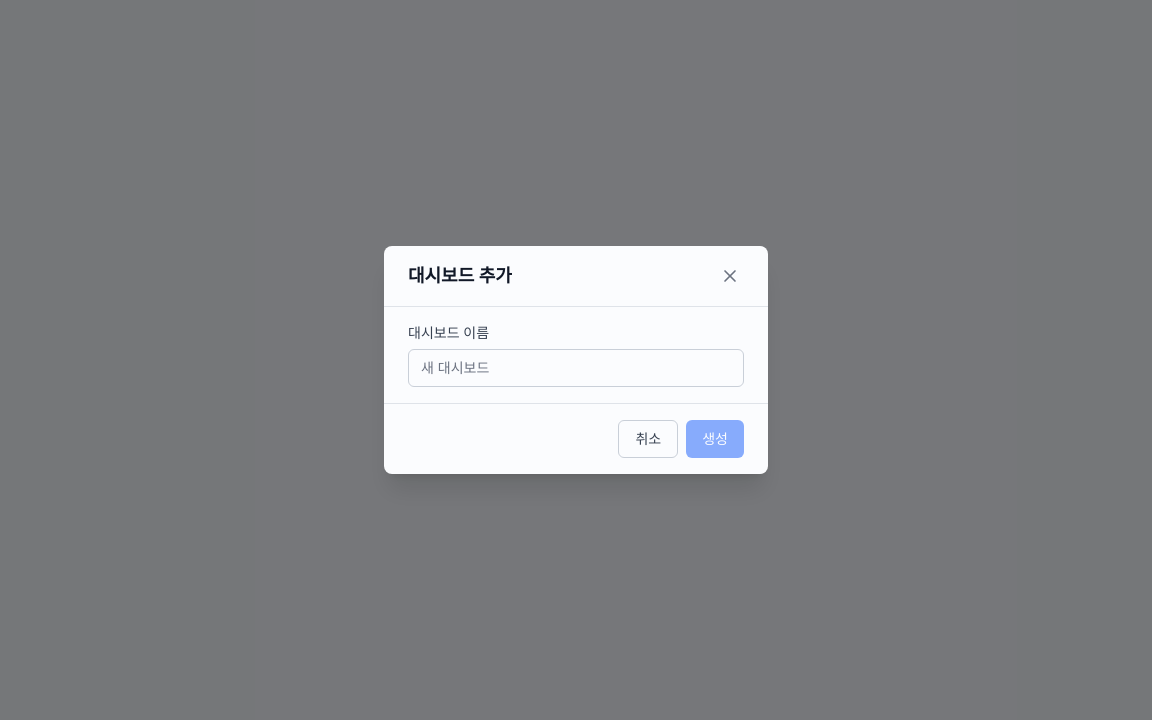
it: CreateDashboardDialog — 생성 권한 게이팅 (AC-03) › dashboard.create 보유 시 이름을 입력하면 제출 버튼이 활성이다
This screenshot has width=1152, height=720.
In the field labelled "대시보드 이름": x=576, y=368 [408,349,744,387], type "분석"
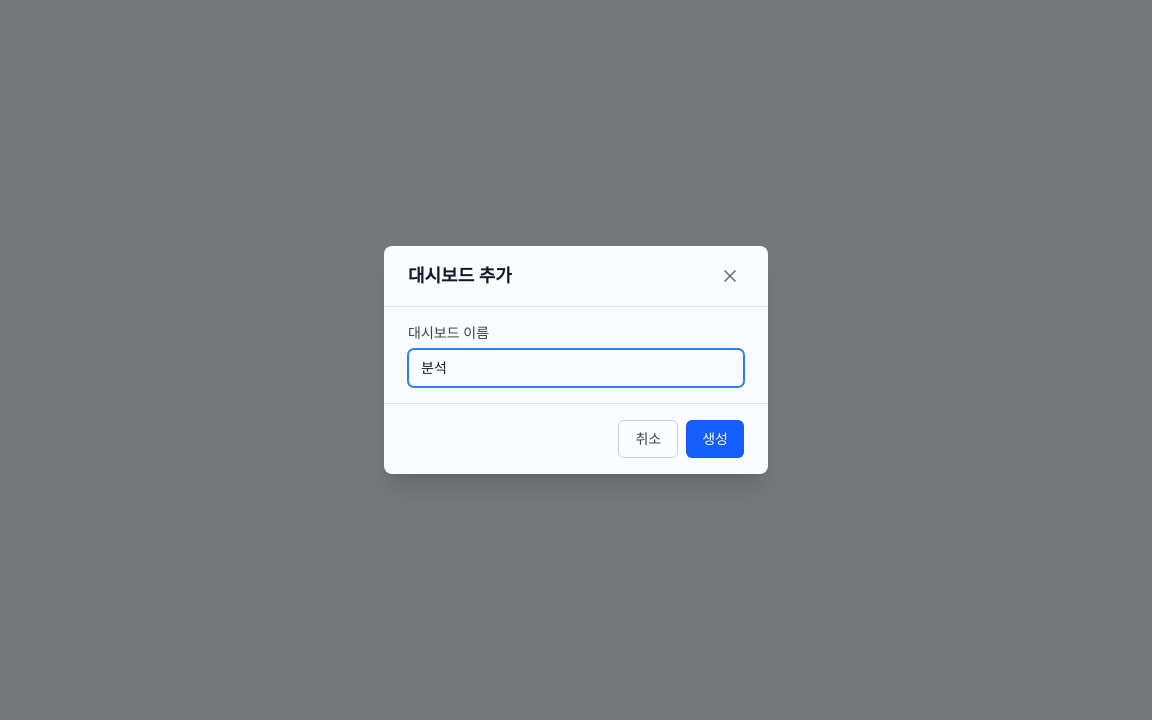
Expected: the button "생성" is enabled, [686,420,744,458]
